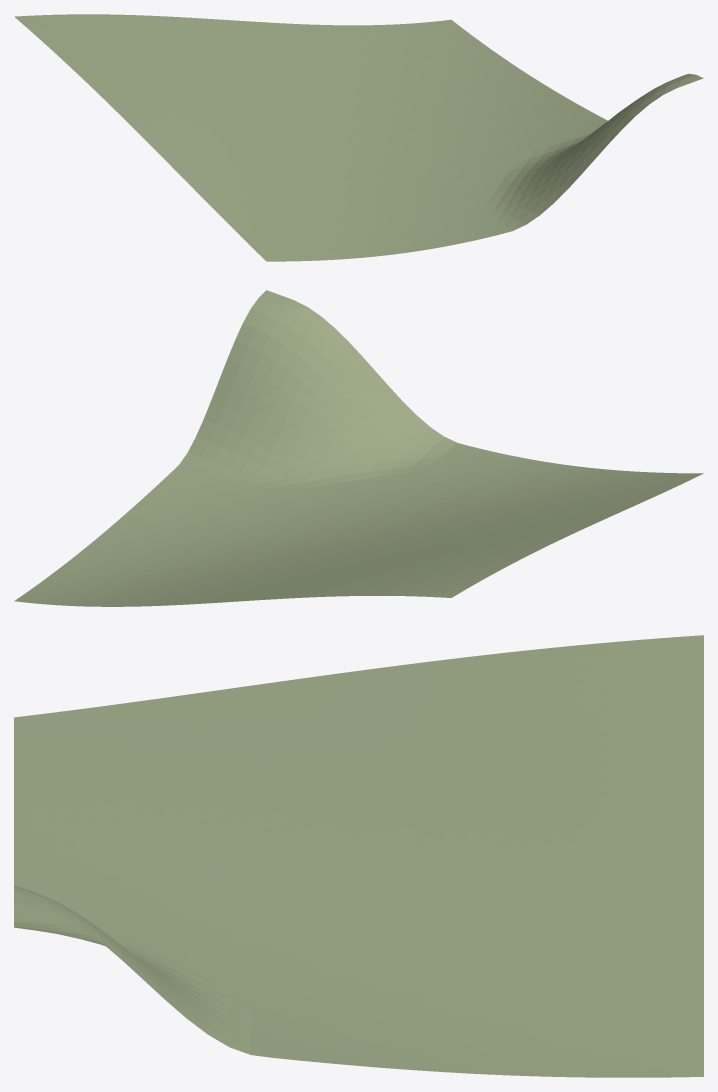
The model's file is expanse-7-24.glb.
3 renders of one model, top to bottom at view 1: azimuth 30°, elevation 25°; view 2: azimuth 150°, elevation 25°; view 3: azimuth 270°, elevation 25°, orthographic. The views are drawn at different scales.
Visible parts, largest first — view 1: expanse-7-24; view 2: expanse-7-24; view 3: expanse-7-24.
Part boxes in pixels (x1=…): expanse-7-24: x1=14, y1=14, x2=703, y2=261; expanse-7-24: x1=14, y1=290, x2=703, y2=606; expanse-7-24: x1=14, y1=635, x2=703, y2=1077.
Size of the model in its own units: 256 by 71.01 by 256.
